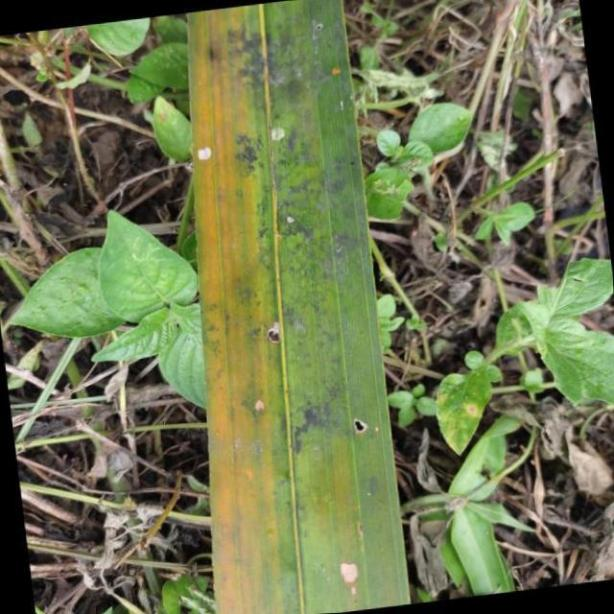Megnesium: (182, 1, 410, 614)
